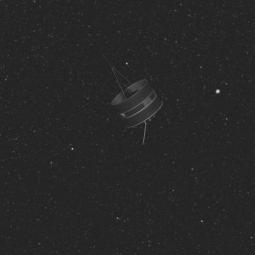double_start: (99, 56, 165, 145)
